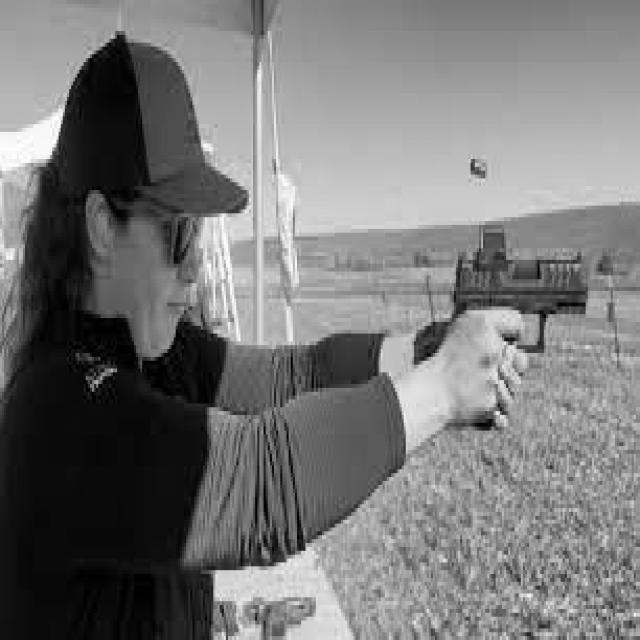gun: (457, 227, 589, 433)
